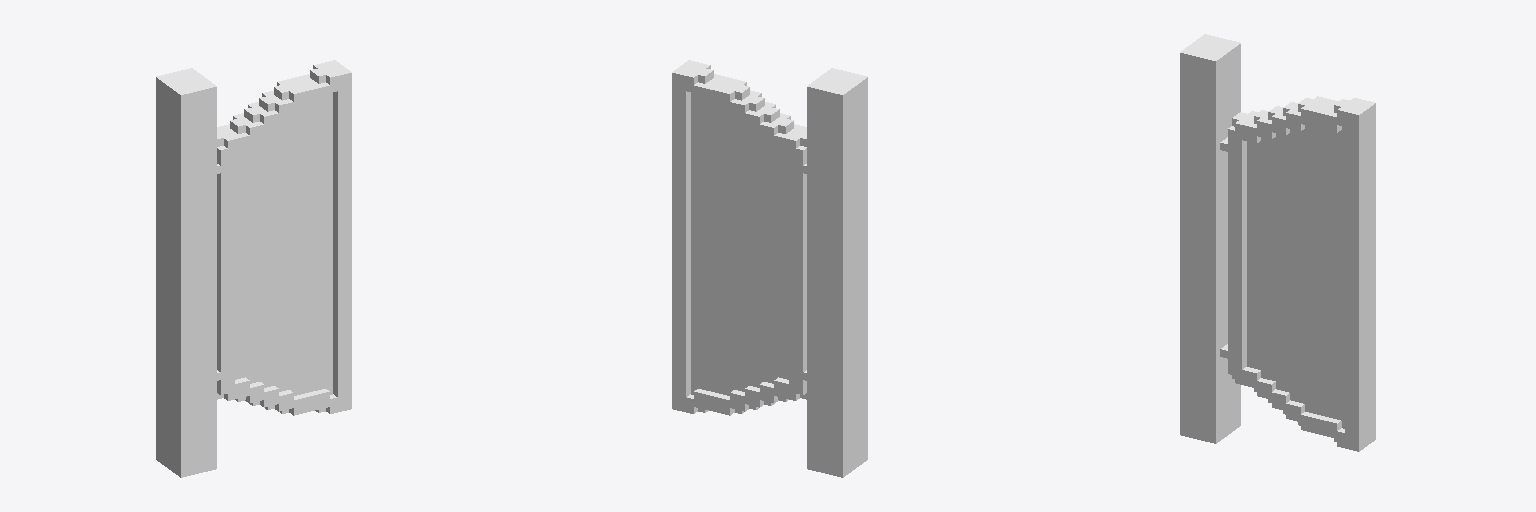
Rendered from Gates.obj.
3 views of the same model, side by side, from view 1: azimuth 30°, elevation 25°; view 2: azimuth 150°, elevation 25°; view 3: azimuth 330°, elevation 25° (orthographic).
Parts seen in each view (by area): view 1: object 1; view 2: object 1; view 3: object 1.
Boxes of the visible parts, <box> form: object 1: <box>156,60,351,477</box>; object 1: <box>672,60,867,477</box>; object 1: <box>1180,34,1375,451</box>.
Bounding box in the file's own units: 2.4 × 5 × 0.6.